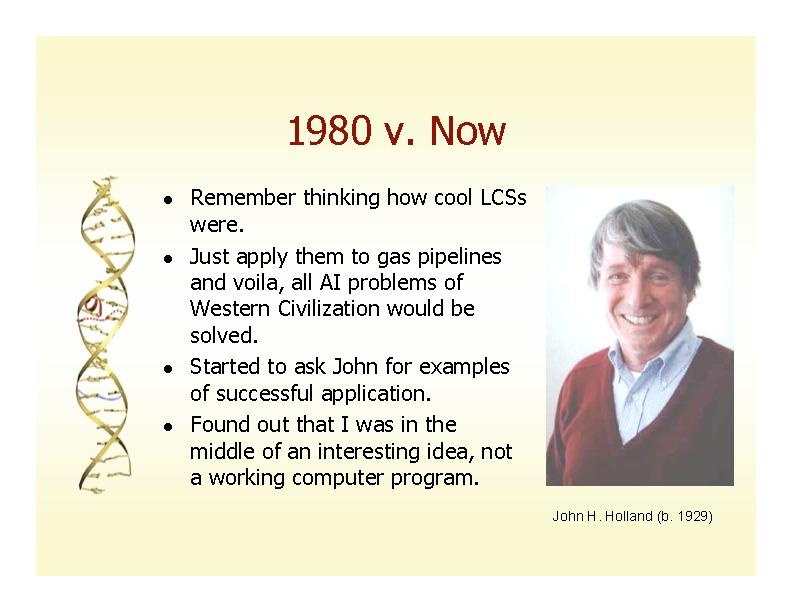paragraph: (147, 172, 555, 492)
title: (271, 96, 534, 170)
